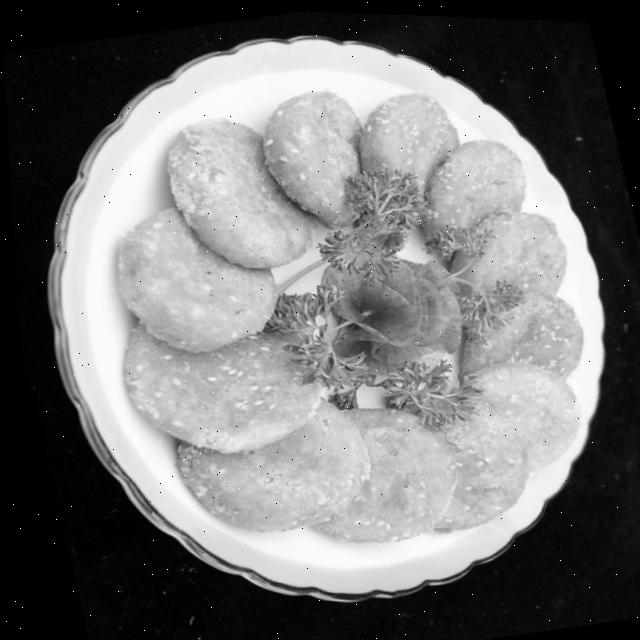炸货点心: (2, 0, 640, 639)
蛋糕甜品: (2, 0, 640, 639)
